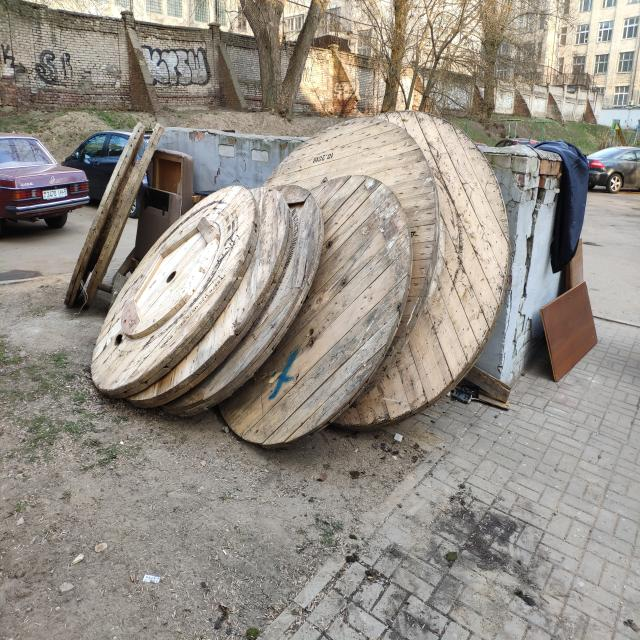entulho: (297, 108, 514, 434), (89, 214, 372, 454), (64, 121, 166, 312), (131, 142, 202, 277), (538, 134, 588, 276), (543, 278, 598, 383)
